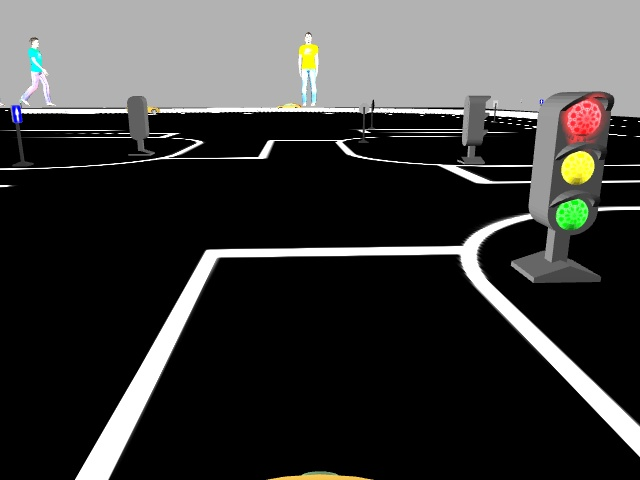TrafficLight: (531, 89, 611, 229)
